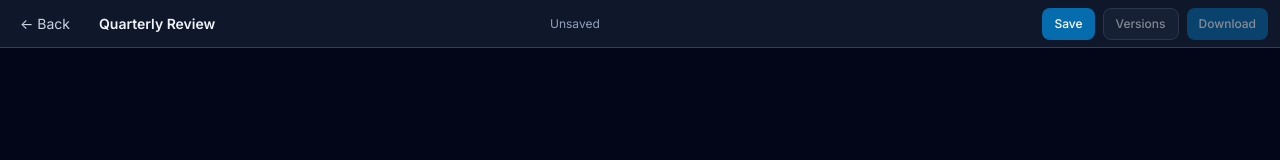
Scenario: EditorPage › stops save polling after the 30 second hard limit
Click the button "Save".
click(1068, 24)  # box [1042,8,1094,40]
Wait 35000 ms
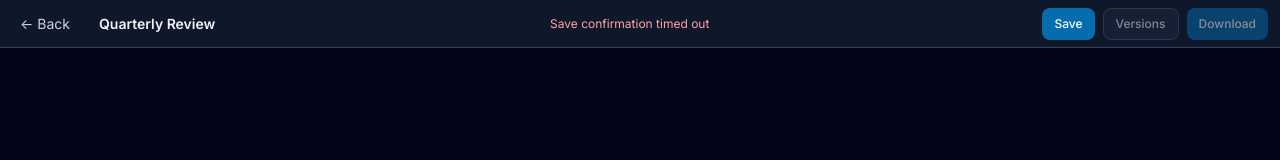
Expected: the button "Download" is disabled, [1186,8,1268,40]
Result: the text "Save confirmation timed out" is shown at [550,16,709,32]
